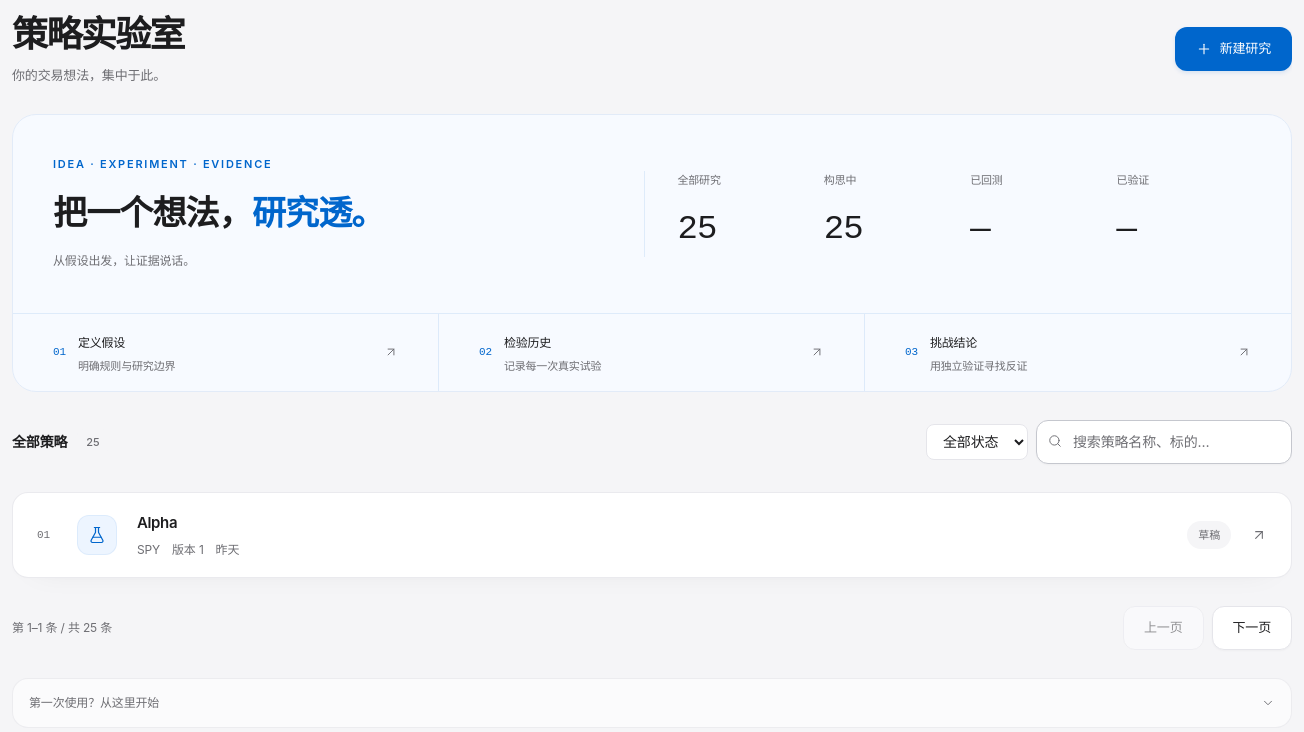
it: StrategyCollection pagination › pages through server results without client-side slicing
Expected: the heading "Alpha" is shown, [137,513,177,532]
Expected: the text "第 1–1 条 / 共 25 条" is shown, [12,620,112,636]
Click the button "下一页". click: x=1252, y=628
box: [1212,606,1292,650]
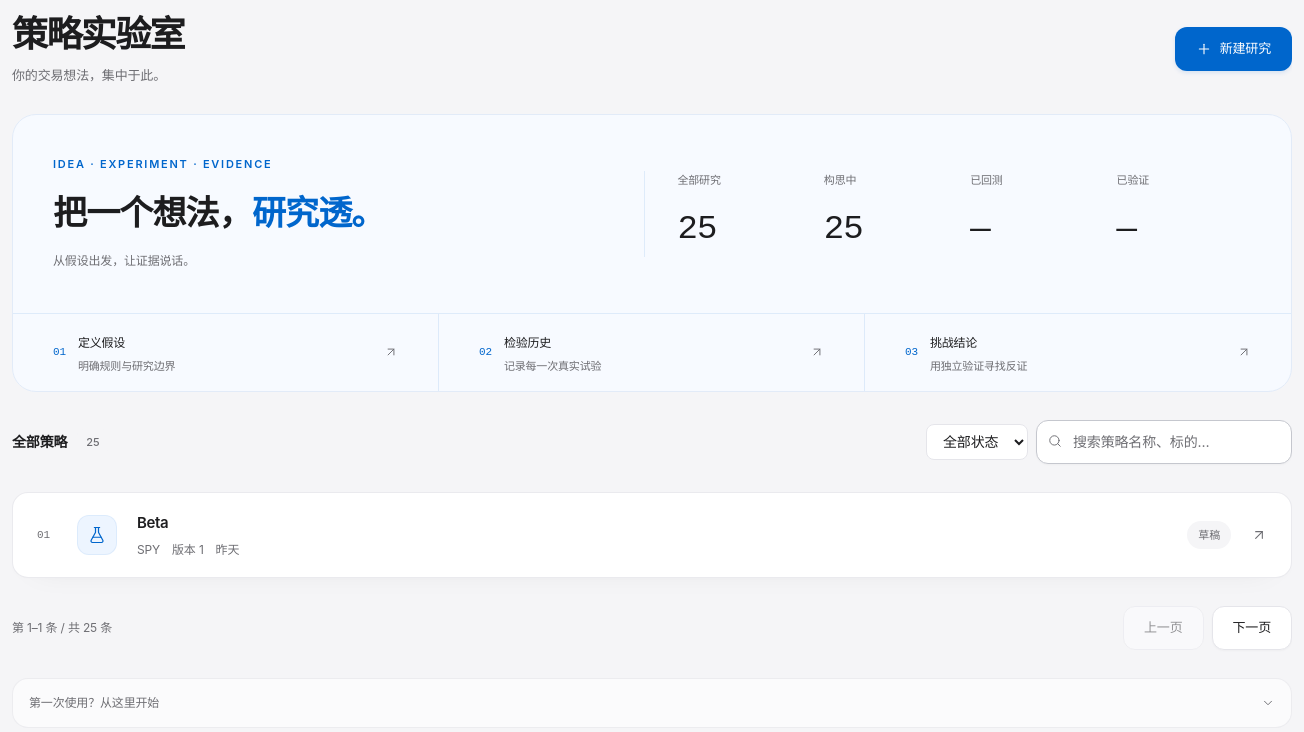
Result: the heading "Beta" is shown at [137,513,168,532]
